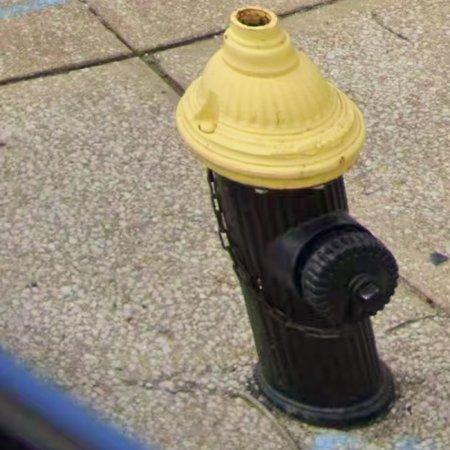a fire hydrant: (177, 7, 399, 426)
